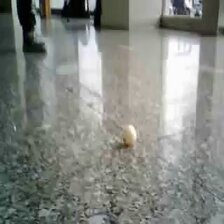w: (120, 123, 138, 144)
